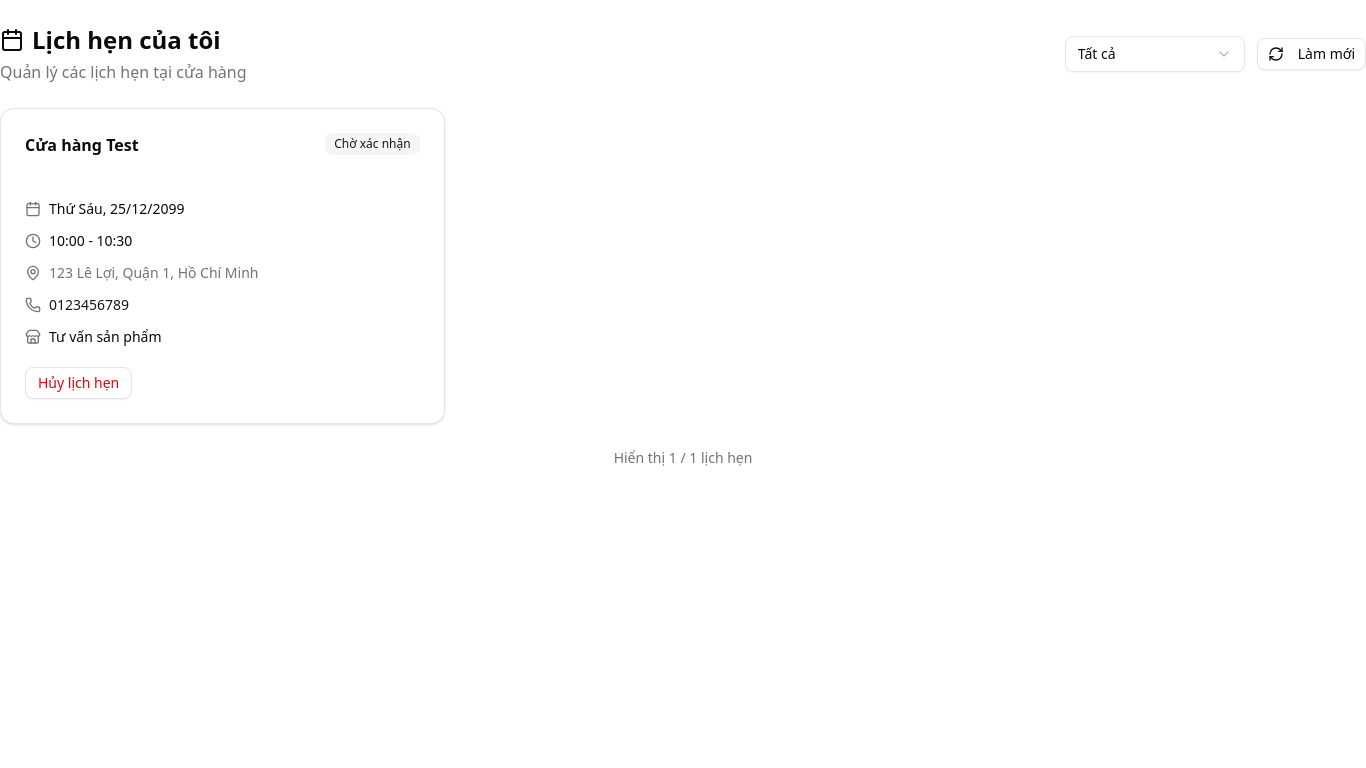
Cancellation failure does not collapse the list (M09) › keeps the appointment list rendered and reports the error inside the dialog
Click the button "Hủy lịch hẹn": (79, 383) left=25, top=367, right=132, bottom=399
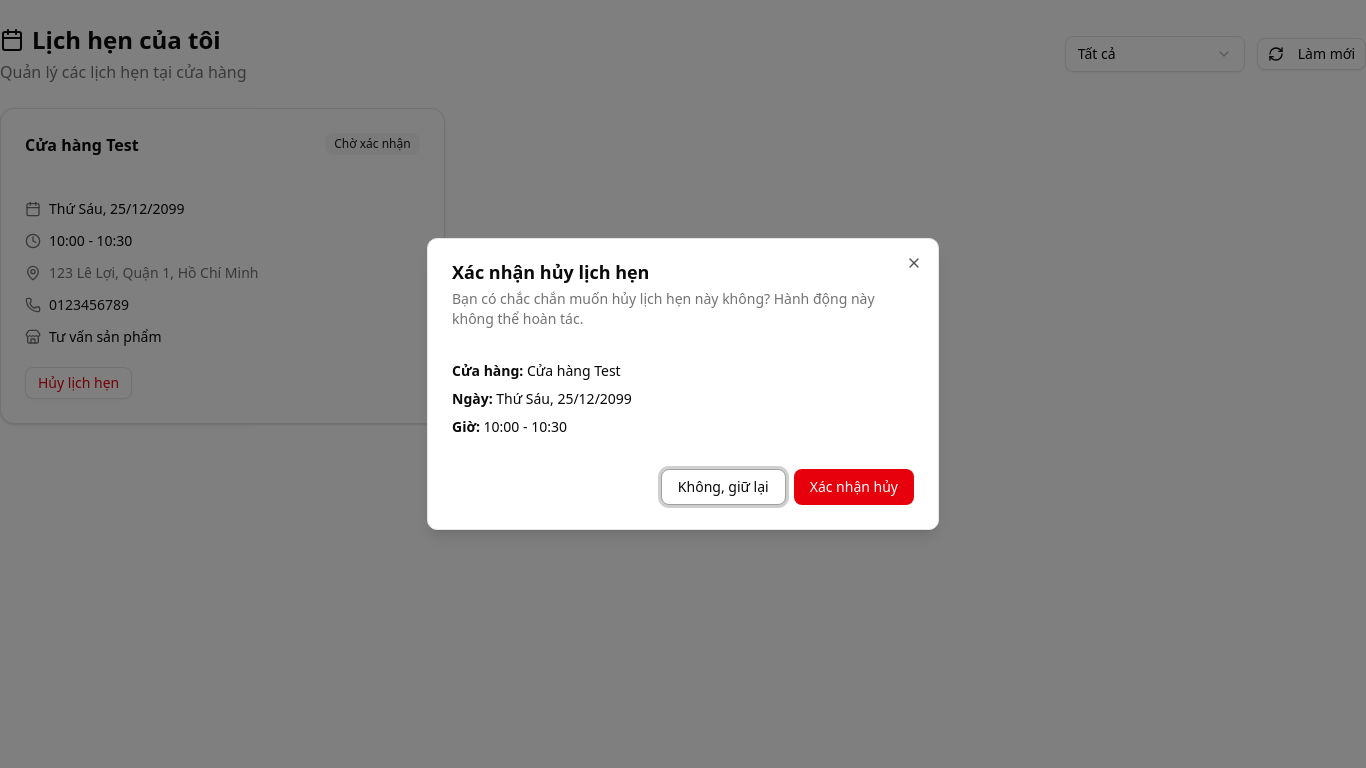
Expected: the button "Xác nhận hủy" is shown
Click the button "Xác nhận hủy": (854, 487) left=794, top=469, right=914, bottom=505
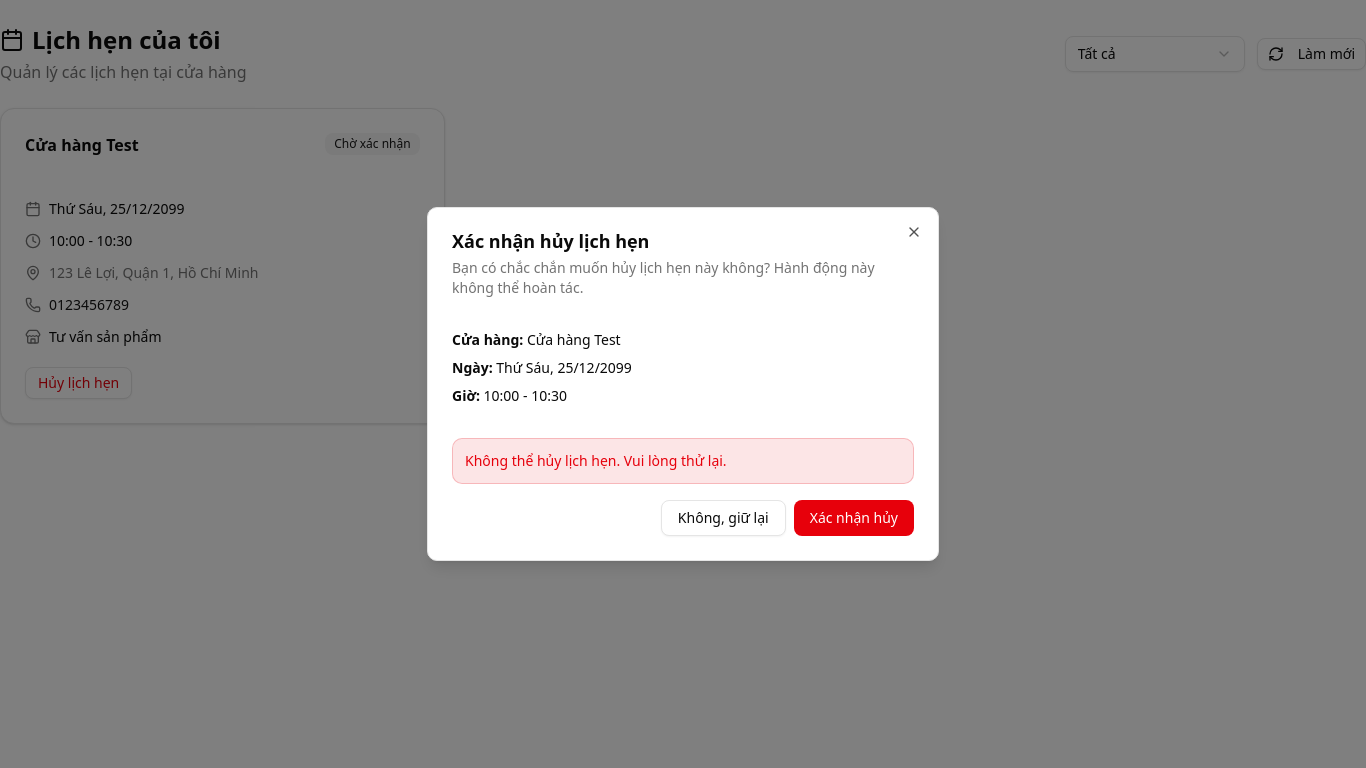
Expected: the element with id "appointment-card-apt-1" is shown, left=0, top=108, right=445, bottom=424
Expected: the message reads "Không thể hủy lịch hẹn. Vui lòng thử lại.", left=465, top=451, right=727, bottom=470
